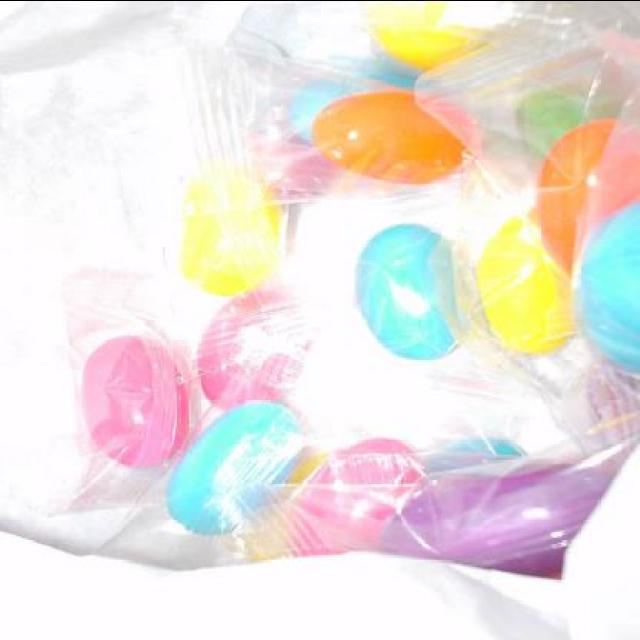Candy: (76, 60, 639, 574)
